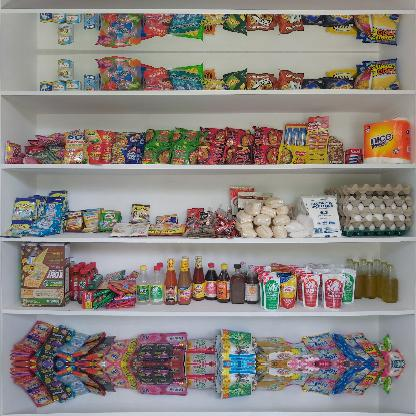Koko-Krunch: (19, 239, 71, 309)
